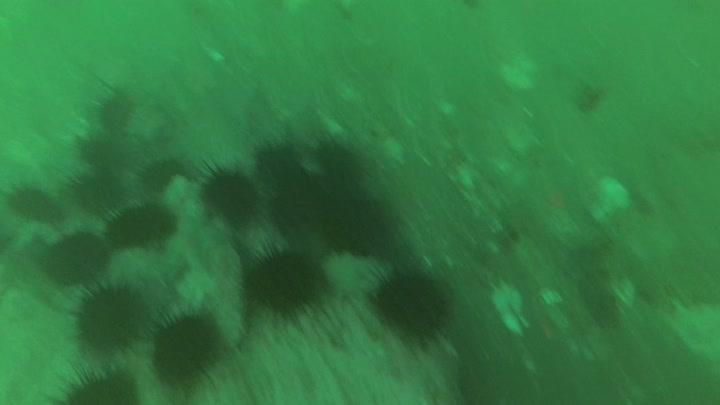urchin: (370, 261, 453, 344), (243, 241, 322, 321), (68, 278, 148, 354), (149, 310, 221, 392), (267, 169, 340, 243), (320, 178, 389, 256), (197, 155, 262, 232), (37, 223, 110, 282), (248, 130, 310, 197), (106, 201, 174, 256), (62, 364, 142, 405), (6, 179, 71, 228), (133, 151, 192, 195), (304, 134, 359, 178)
